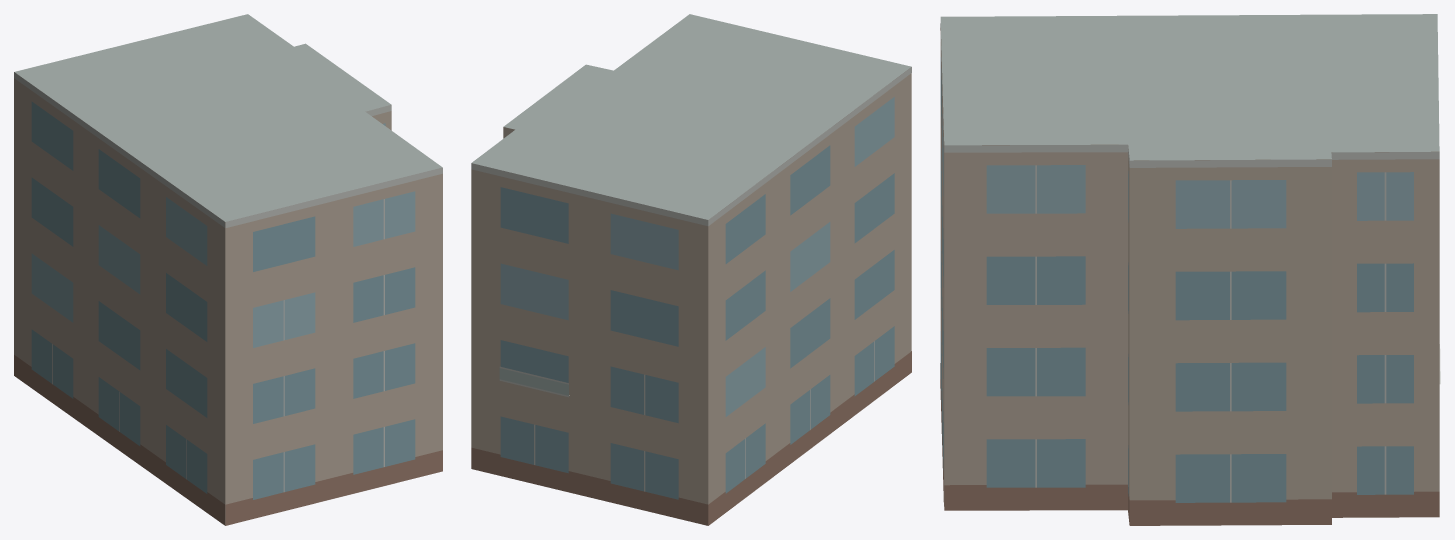
The model's file is survey-upis-32606384.glb.
The picture shows the model from 3 angles, left to right: view 1: azimuth 30°, elevation 25°; view 2: azimuth 150°, elevation 25°; view 3: azimuth 270°, elevation 25°; orthographic projection. The views are drawn at different scales.
Parts seen in each view (by area): view 1: survey-upis-32606384.tmp; view 2: survey-upis-32606384.tmp; view 3: survey-upis-32606384.tmp.
Boxes of the visible parts, x1,y1,x2,y2 form: survey-upis-32606384.tmp: [14, 14, 442, 525]; survey-upis-32606384.tmp: [471, 14, 911, 525]; survey-upis-32606384.tmp: [940, 14, 1440, 525].
Bounding box in the file's own units: 10.24 × 11.9 × 14.77.
